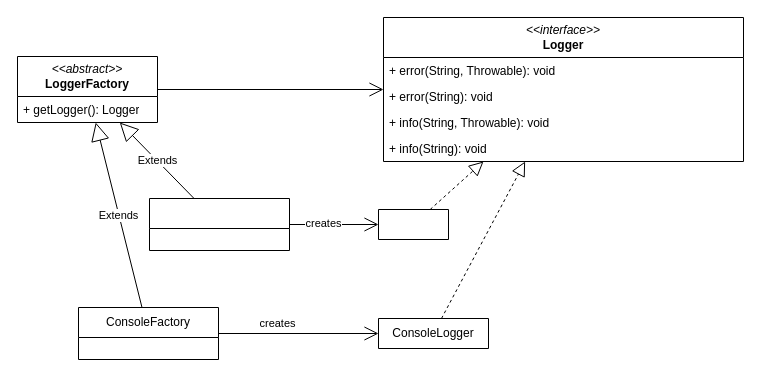
This 761x377 diagram has some shape labels left out. Each missing label, with the centre of its shape:
Log4j: point (413, 224)
Log4jFactory: point (219, 224)
